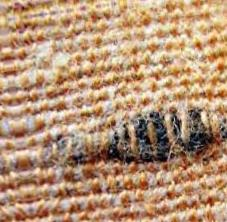slub: (65, 110, 224, 167)
